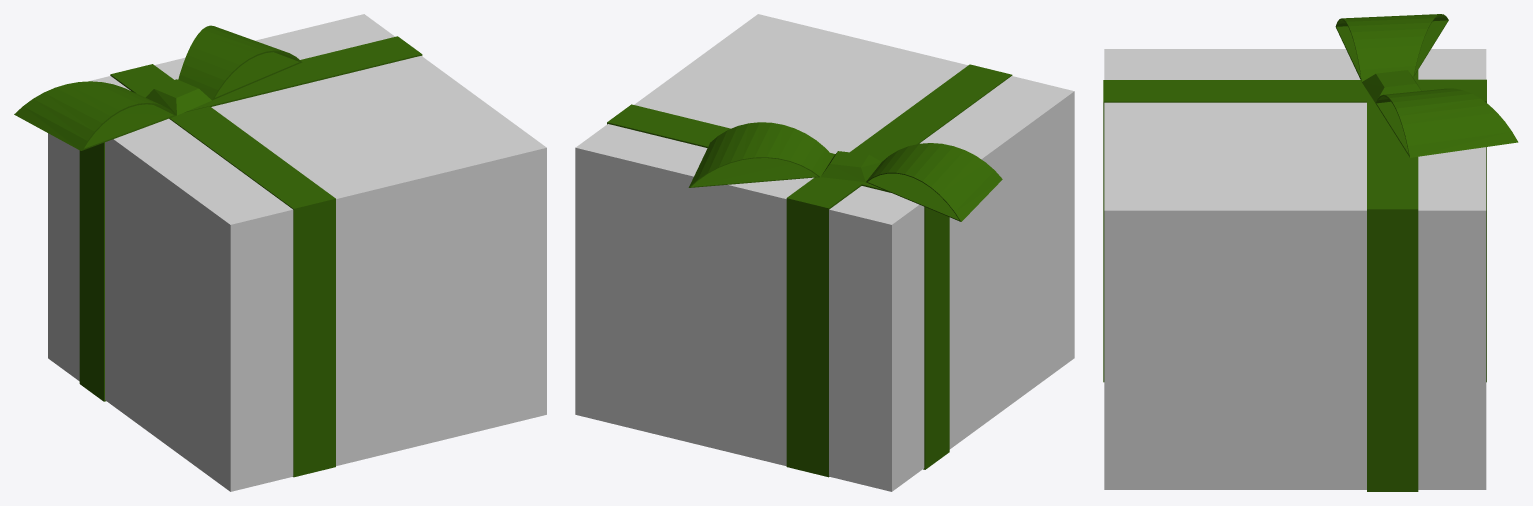
The model's file is Prop_Christmas_Present_White_05.FBX.
The picture shows the model from 3 angles, left to right: view 1: azimuth 30°, elevation 25°; view 2: azimuth 150°, elevation 25°; view 3: azimuth 270°, elevation 25°; orthographic projection. The views are drawn at different scales.
Visible parts, largest first — view 1: Prop_Christmas_Present_White_05; view 2: Prop_Christmas_Present_White_05; view 3: Prop_Christmas_Present_White_05.
Part boxes in pixels (x1,y1,x2,y2): Prop_Christmas_Present_White_05: (14,14,546,491); Prop_Christmas_Present_White_05: (575,14,1074,491); Prop_Christmas_Present_White_05: (1103,14,1518,491).
Size of the model in its own units: 387 by 298 by 360.
